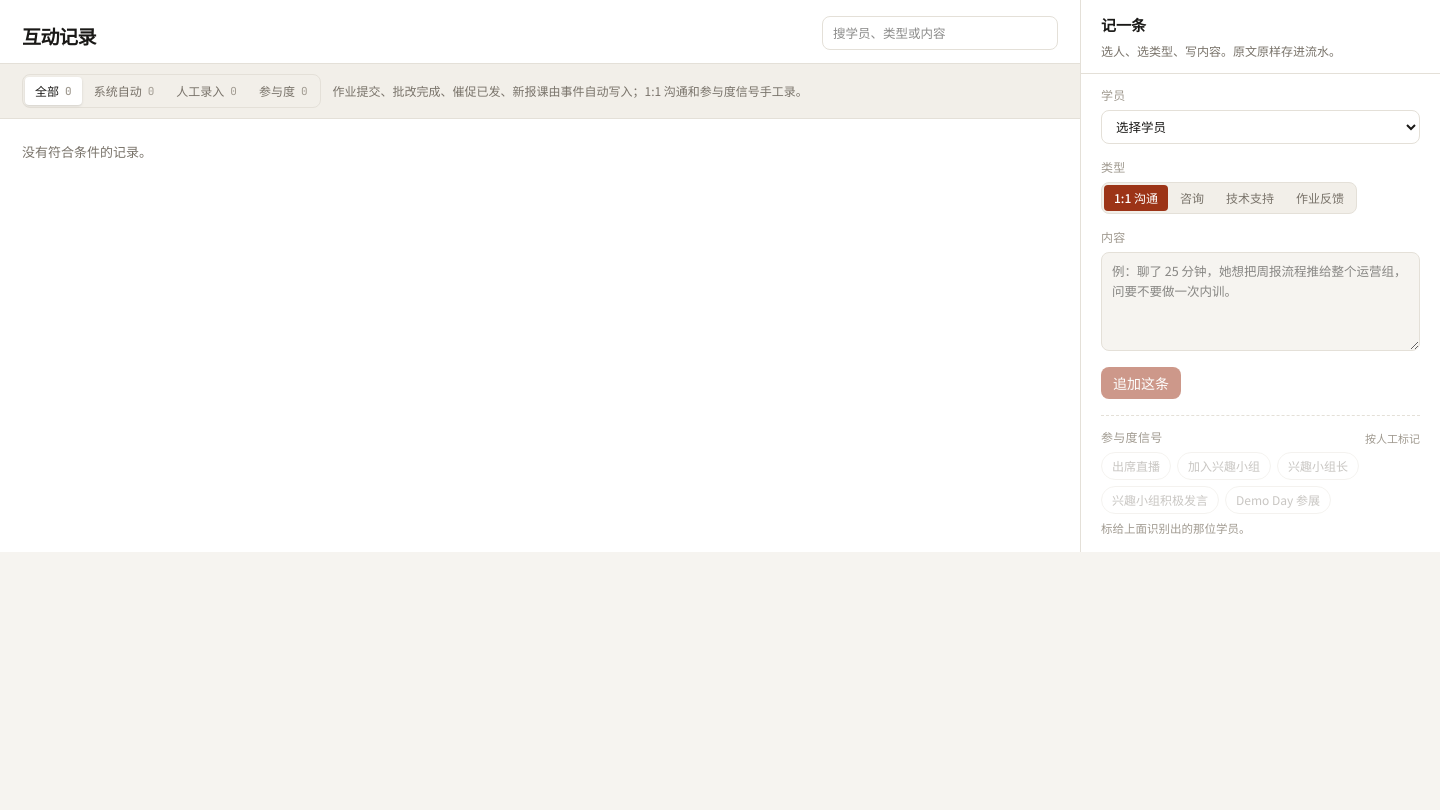
Test case: 写入成功后的提示条 › 手动录入成功后显示“已写入”，点“知道了”后消失
Select "学员甲" in the dropdown labelled "学员" at (1260, 126), box [1101,110,1420,144]
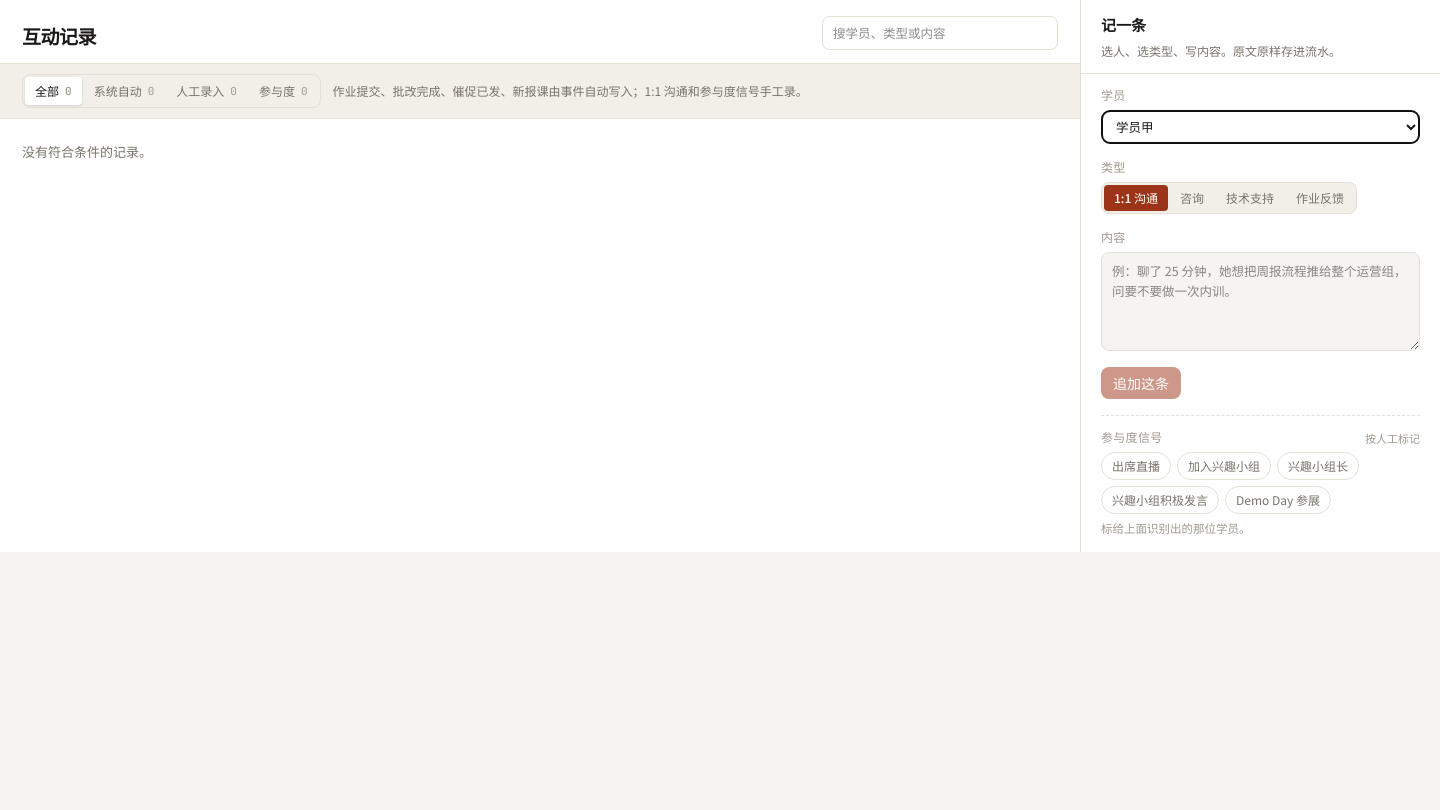
Click the button "1:1 沟通".
click(1136, 198)  # box [1104,184,1168,210]
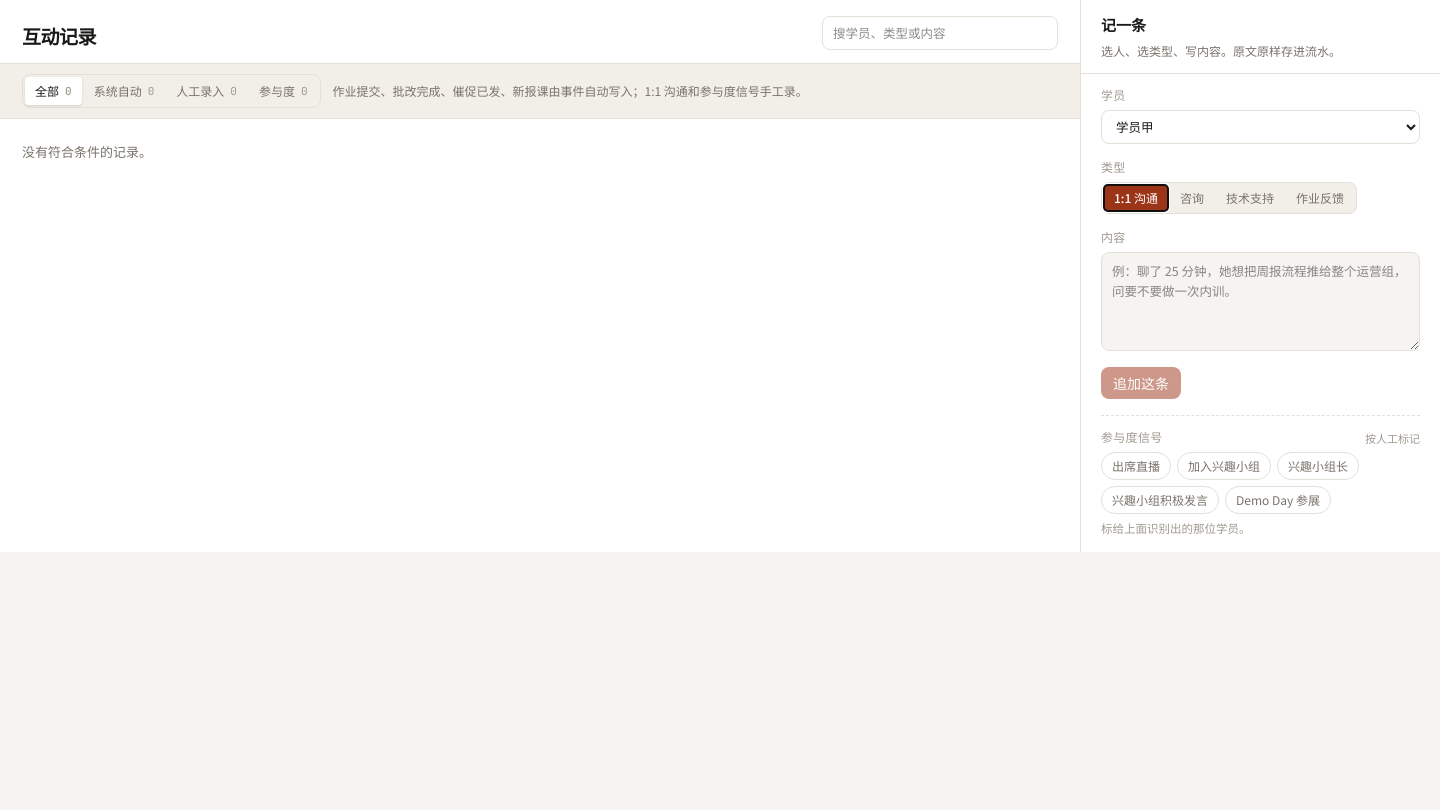
Type "聊了下学习进度" into the text box labelled "内容".
click(1260, 301); type("聊了下学习进度")  # box [1101,252,1420,351]
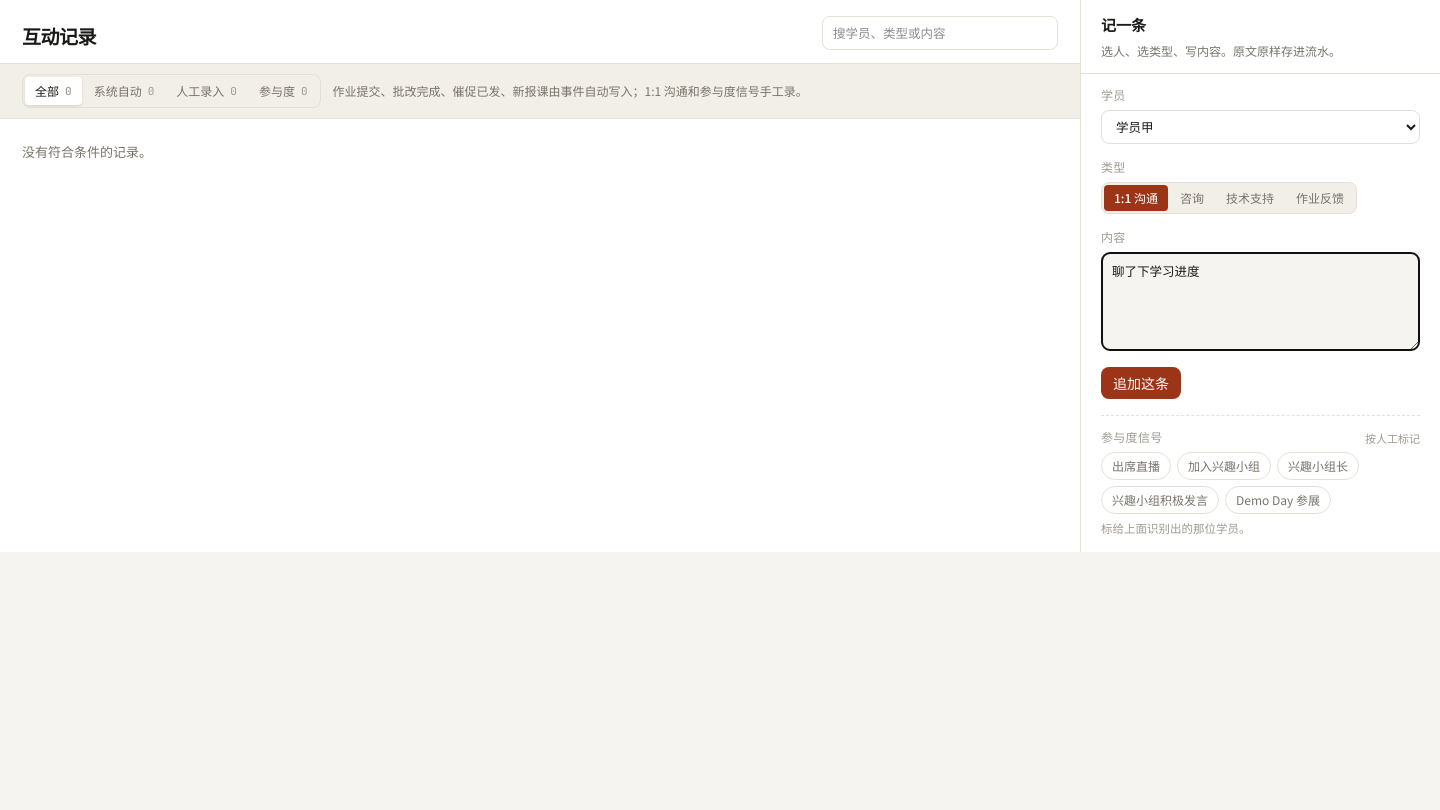
Click the button "追加这条".
click(1141, 383)  # box [1101,367,1181,399]
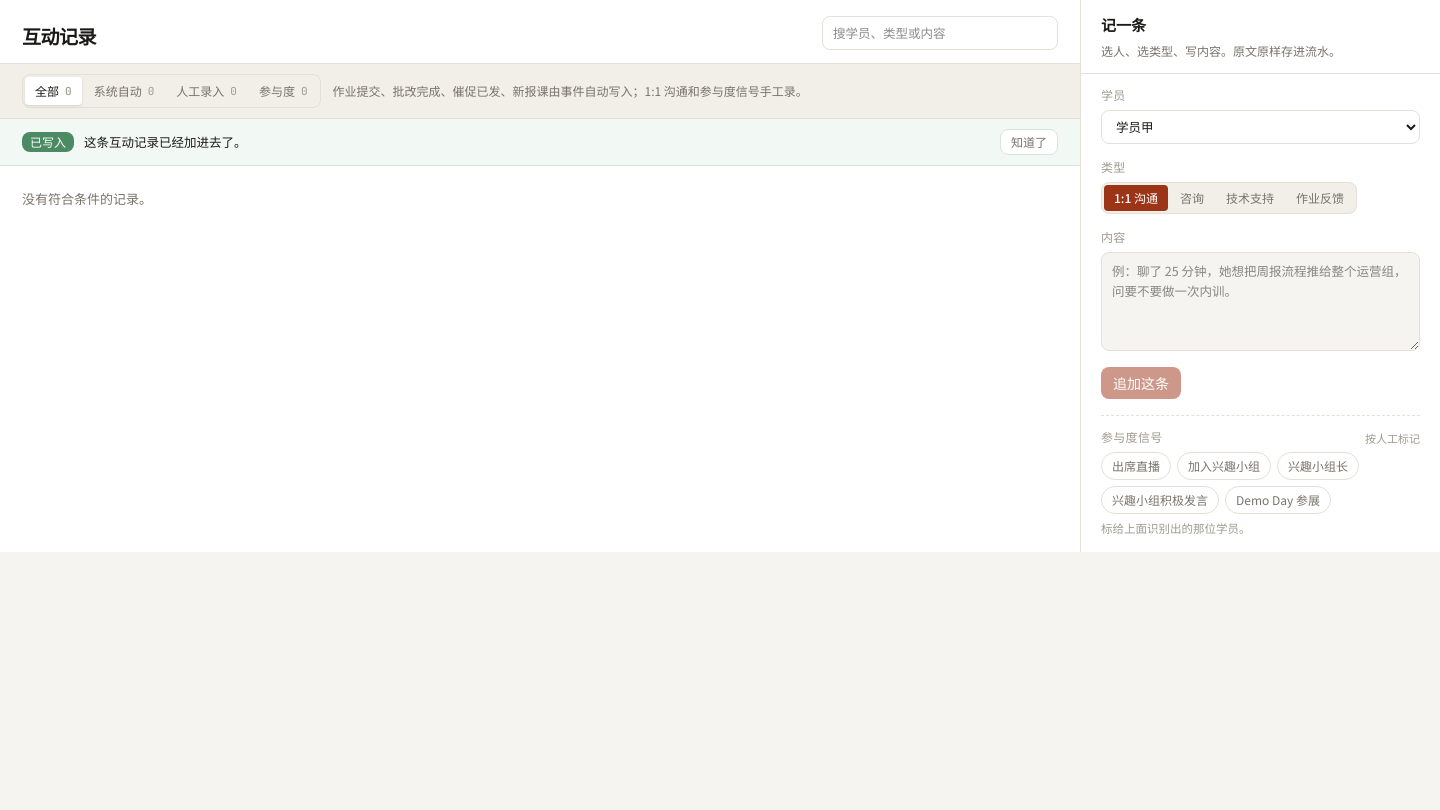
Result: the text "已写入" is shown at [22,132,74,152]
Click the button "知道了".
click(1029, 142)  # box [1000,129,1058,155]
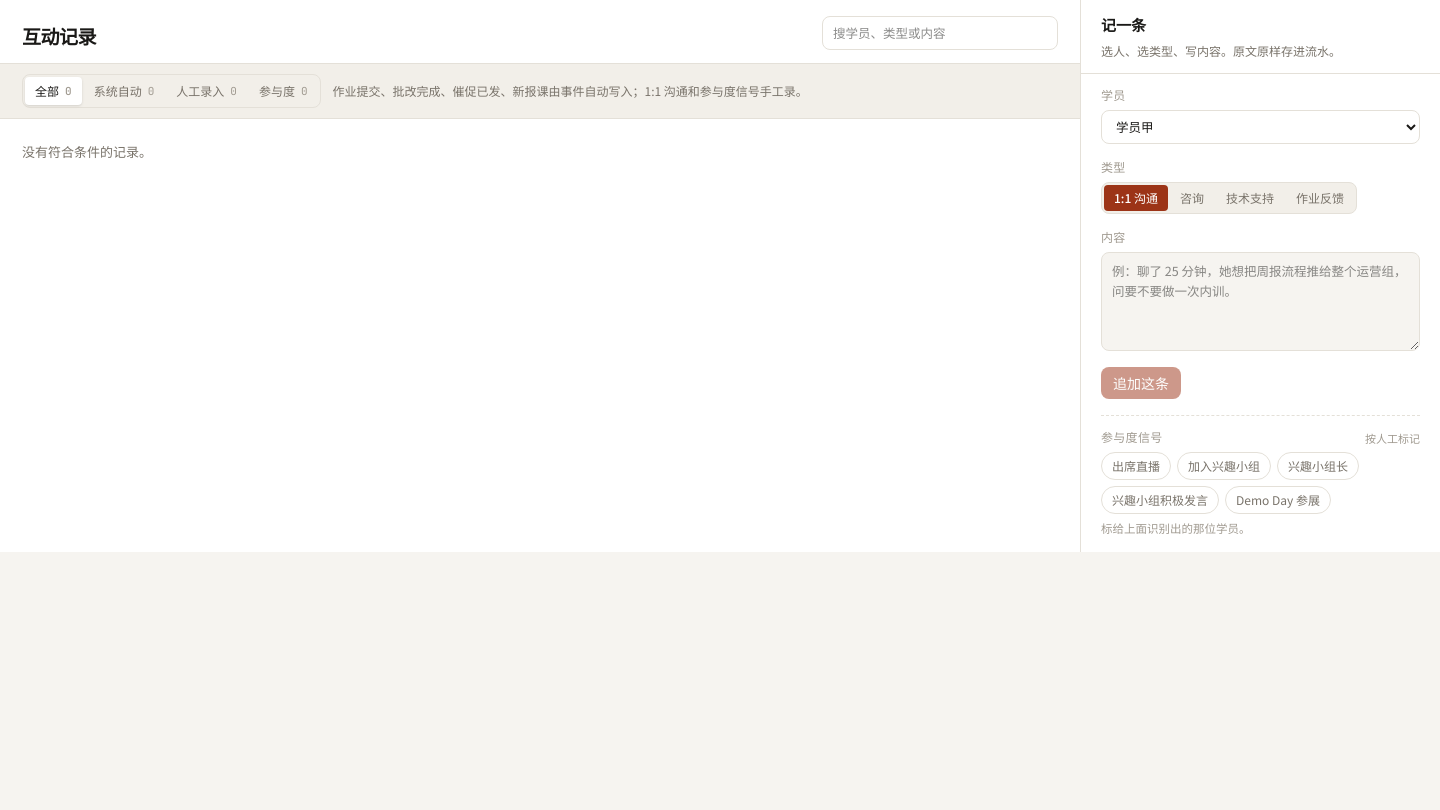
Result: the text "已写入" is gone
